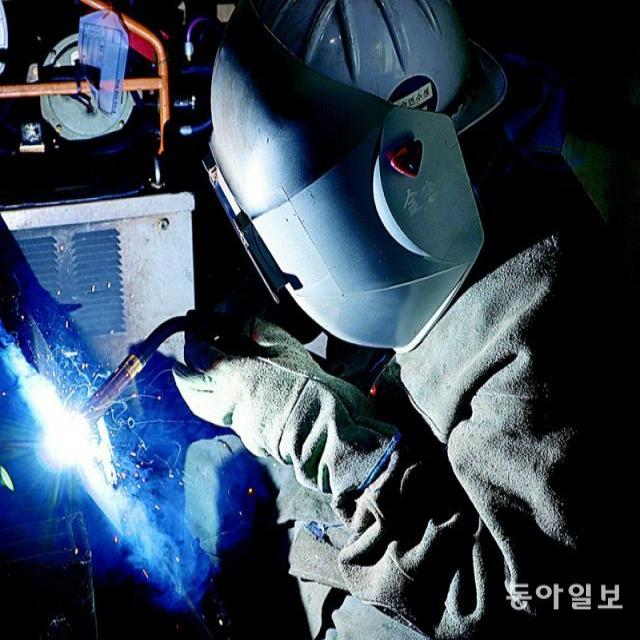welding: (45, 414, 93, 464)
